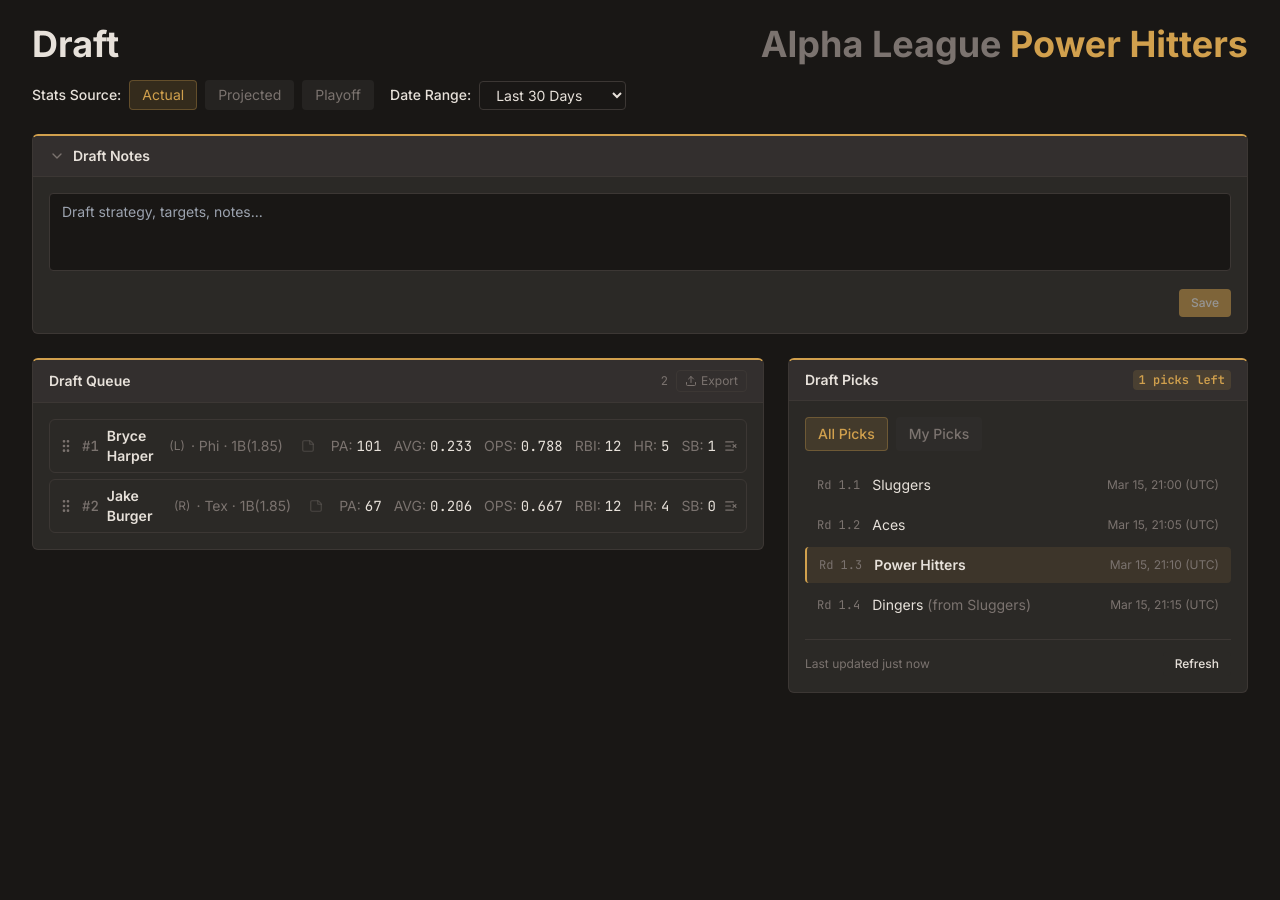
Scenario: DraftPage › Projection Stats › projected mode shows stats after projections load
# Switch to Projected mode
Click the button "Projected".
click(250, 95)  # box [205, 80, 294, 110]
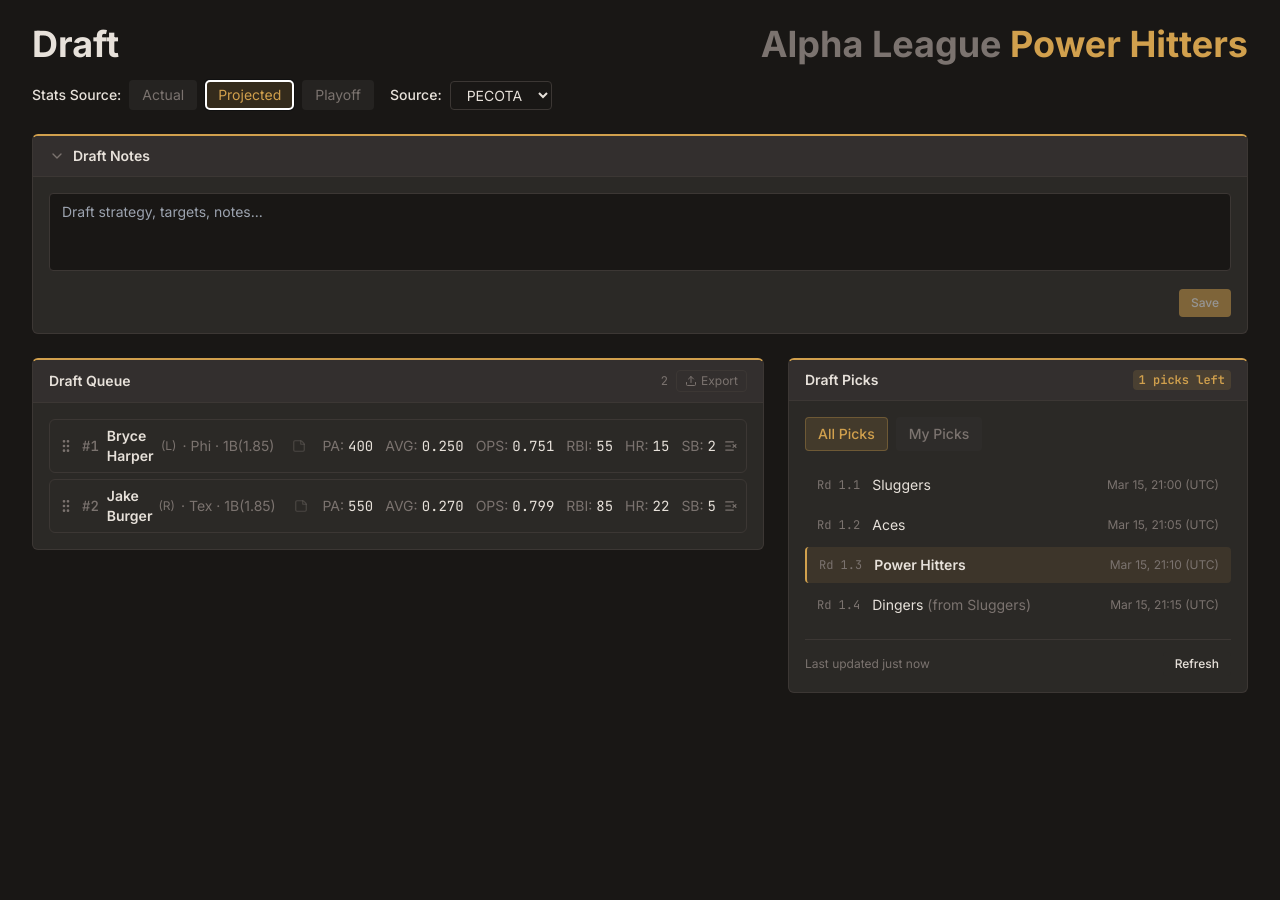
Expected: the link "Bryce Harper" is shown, [107, 426, 155, 466]
Now the text "Source:" is shown, box [390, 85, 442, 105]
